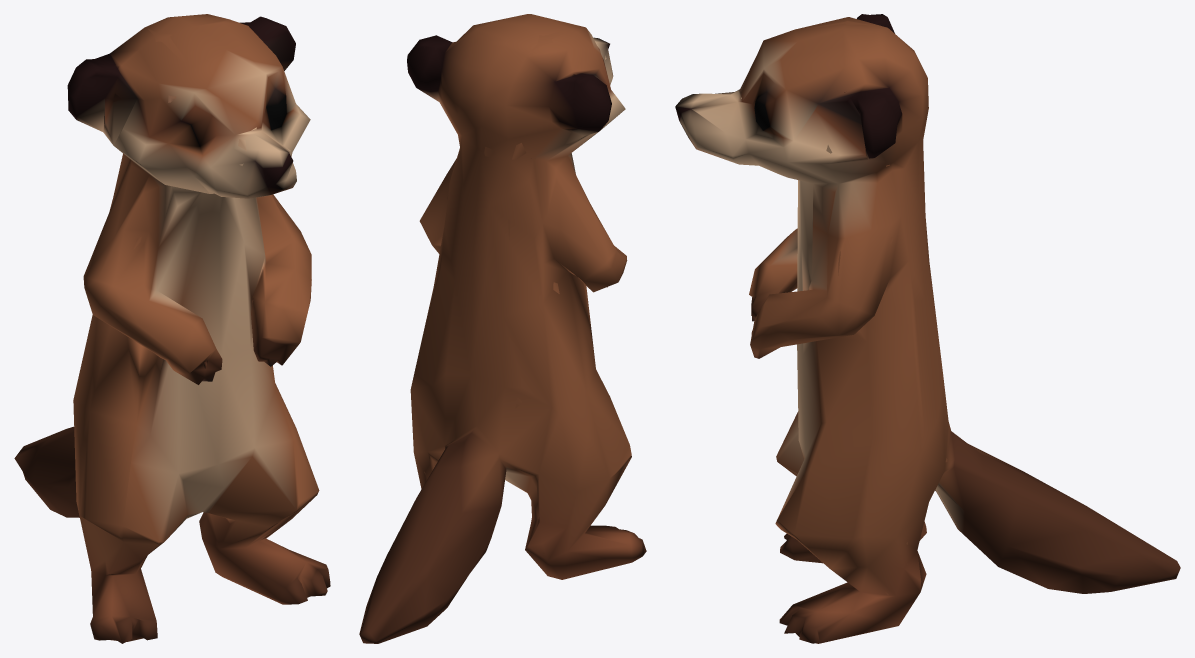
The model's file is gen3d-meerkat-lod1.glb.
3 views of the same model, side by side, from view 1: azimuth 30°, elevation 25°; view 2: azimuth 150°, elevation 25°; view 3: azimuth 270°, elevation 25° (orthographic). The views are drawn at different scales.
Visible parts, largest first — view 1: part_0; view 2: part_0; view 3: part_0.
Boxes of the visible parts, x1,y1,x2,y2 form: part_0: (14,14,330,643); part_0: (359,14,646,643); part_0: (675,14,1180,643).
Bounding box in the file's own units: 0.432 × 0.9989 × 0.8142.
